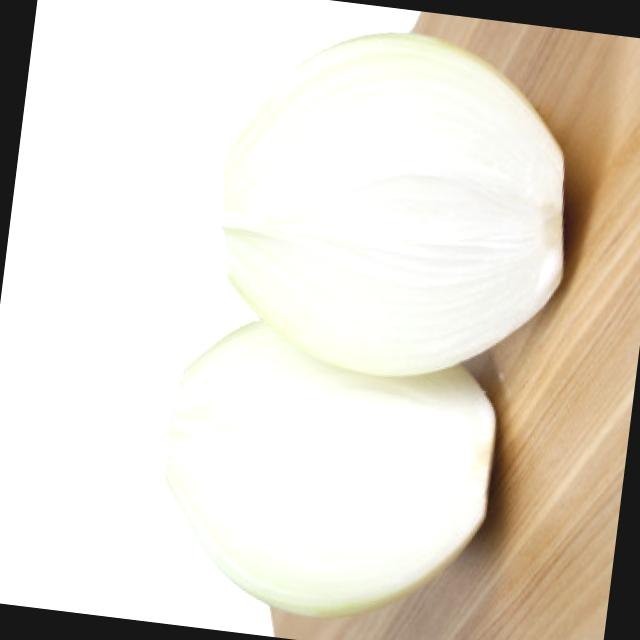onion: (174, 16, 591, 372), (142, 314, 510, 637)
